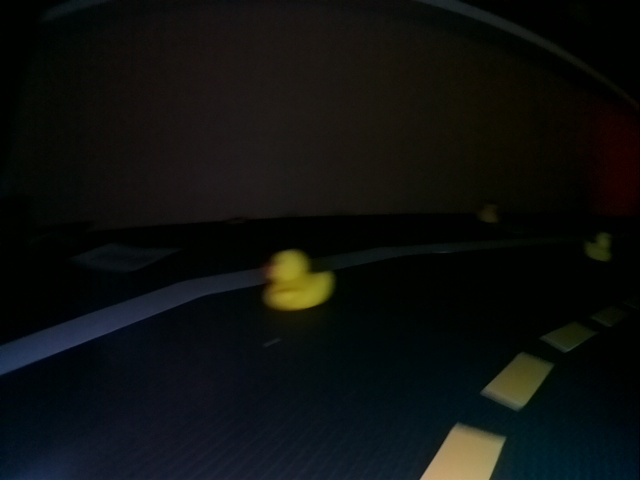Duckie: (260, 249, 336, 311), (584, 232, 614, 262), (477, 203, 500, 223)
